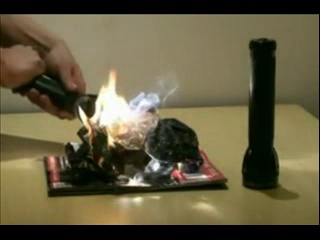fire: (72, 68, 116, 167)
smoke: (116, 91, 160, 171)
